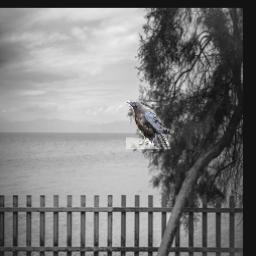Crow: (127, 100, 172, 149)
